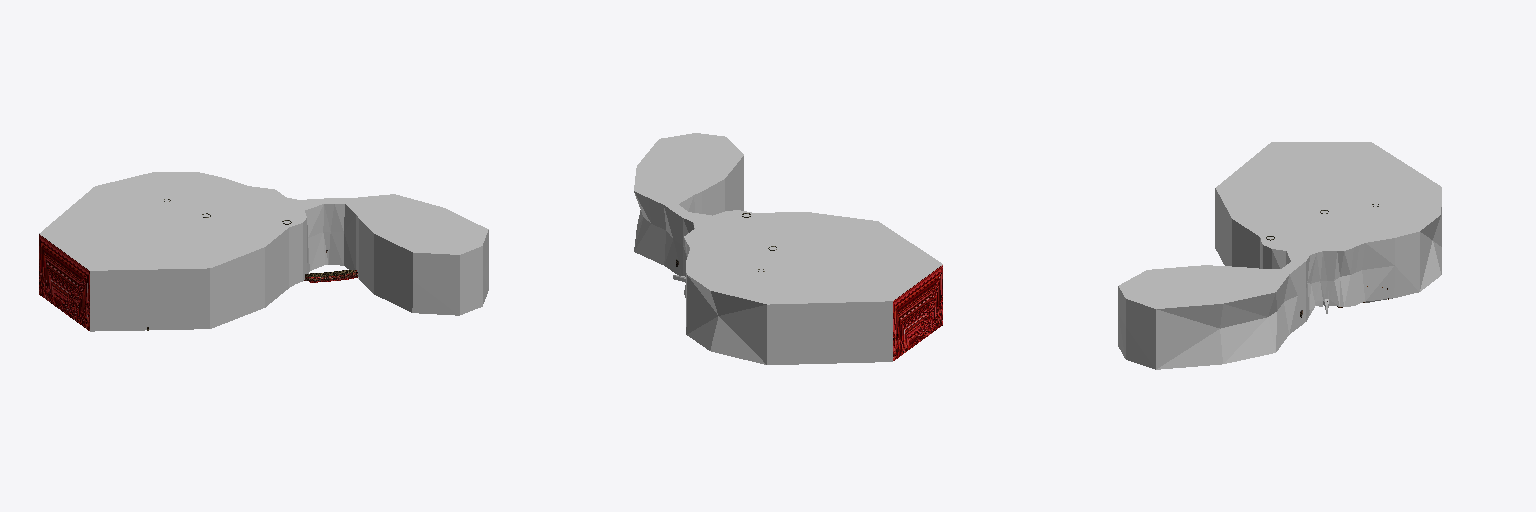
3 views of the same model, side by side, from view 1: azimuth 30°, elevation 25°; view 2: azimuth 150°, elevation 25°; view 3: azimuth 270°, elevation 25° (orthographic).
Parts seen in each view (by area): view 1: #Room0#_Plane.002_Dirt_Rock_Wall8.#MirrorX#MirrorY, #Room0#_Plane.002_Lava#SFX_7#FLOORSPECIAL_HURT_LAVA#MirrorX; view 2: #Room0#_Plane.002_Dirt_Rock_Wall8.#MirrorX#MirrorY, #Room0#_Plane.002_Lava#SFX_7#FLOORSPECIAL_HURT_LAVA#MirrorX; view 3: #Room0#_Plane.002_Dirt_Rock_Wall8.#MirrorX#MirrorY.
Boxes of the visible parts, x1=… form: #Room0#_Plane.002_Dirt_Rock_Wall8.#MirrorX#MirrorY: x1=39, y1=172, x2=488, y2=331; #Room0#_Plane.002_Lava#SFX_7#FLOORSPECIAL_HURT_LAVA#MirrorX: x1=39, y1=234, x2=89, y2=330; #Room0#_Plane.002_Dirt_Rock_Wall8.#MirrorX#MirrorY: x1=634, y1=133, x2=942, y2=364; #Room0#_Plane.002_Lava#SFX_7#FLOORSPECIAL_HURT_LAVA#MirrorX: x1=893, y1=265, x2=942, y2=360; #Room0#_Plane.002_Dirt_Rock_Wall8.#MirrorX#MirrorY: x1=1118, y1=142, x2=1441, y2=369.
Size of the model in its own units: 15156 by 2653 by 12428.
Materials: 22 (16 with a texture image).